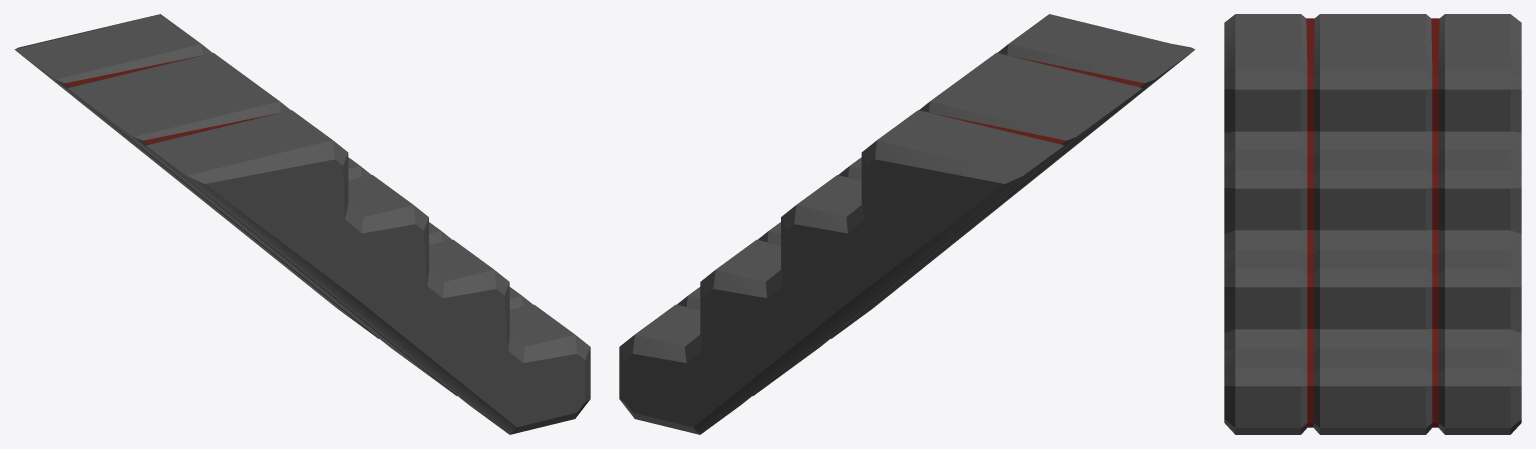
The model's file is sm_stair.fbx.
3 views of the same model, side by side, from view 1: azimuth 30°, elevation 25°; view 2: azimuth 150°, elevation 25°; view 3: azimuth 270°, elevation 25° (orthographic). The views are drawn at different scales.
Visible parts, largest first — view 1: stair; view 2: stair; view 3: stair.
Part boxes in pixels (box(x1,y1,x2,y2)): stair: box(14, 14, 590, 434); stair: box(619, 14, 1195, 434); stair: box(1224, 14, 1521, 434).
Size of the model in its own units: 125 by 100 by 100.
